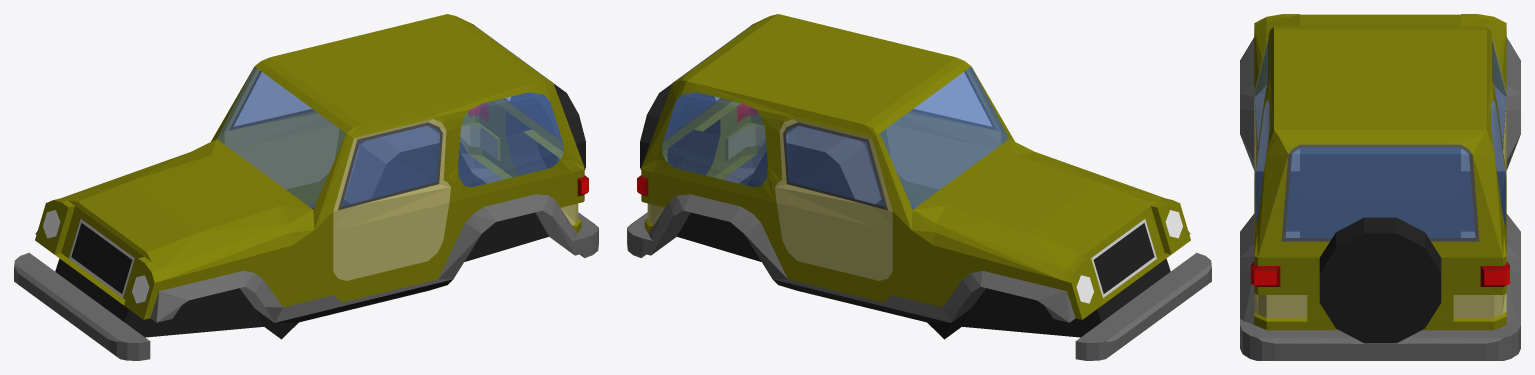
Rendered from Off Roader Jeep.fbx.
3 renders of one model, left to right at view 1: azimuth 30°, elevation 25°; view 2: azimuth 150°, elevation 25°; view 3: azimuth 270°, elevation 25°, orthographic. The views are drawn at different scales.
Visible parts, largest first — view 1: _(Loose Entity); view 2: _(Loose Entity); view 3: _(Loose Entity).
Part boxes in pixels (left/top/right/bottom): _(Loose Entity): left=14, top=14, right=598, bottom=360; _(Loose Entity): left=627, top=14, right=1211, bottom=360; _(Loose Entity): left=1240, top=14, right=1520, bottom=360.
Bounding box in the file's own units: 372 × 135 × 157.
